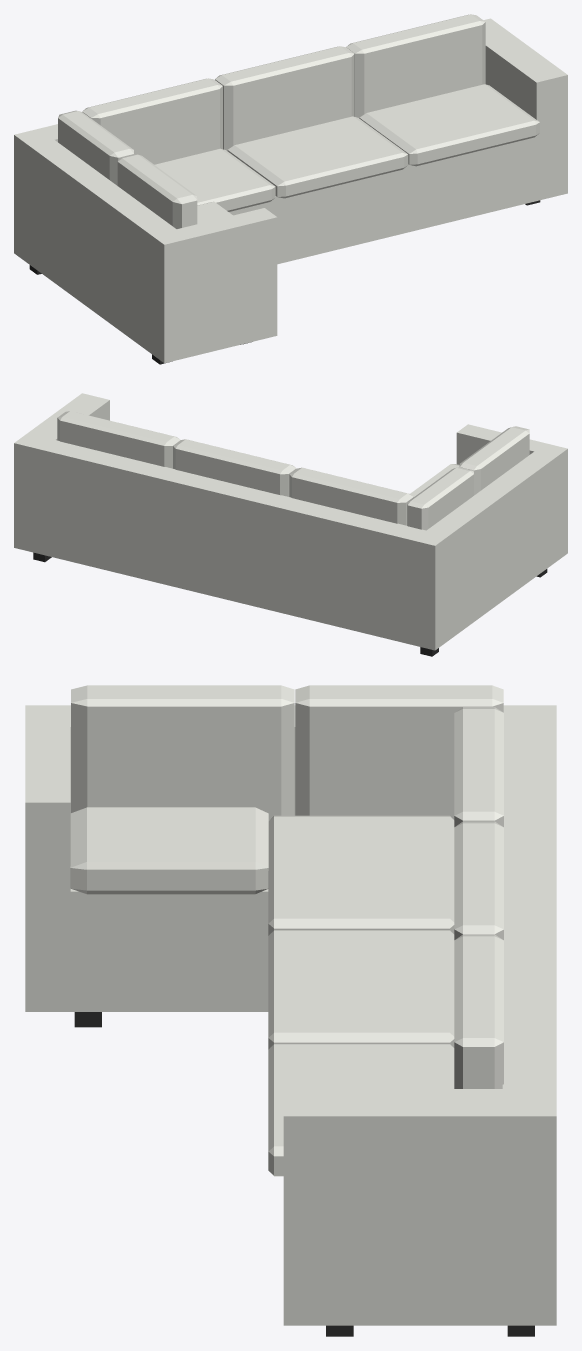
File: Couch_1B.fbx
The picture shows the model from 3 angles, top to bottom: view 1: azimuth 30°, elevation 25°; view 2: azimuth 150°, elevation 25°; view 3: azimuth 270°, elevation 25°; orthographic projection. The views are drawn at different scales.
Parts seen in each view (by area): view 1: polySurface2341; view 2: polySurface2341; view 3: polySurface2341.
Boxes of the visible parts, x1,y1,x2,y2 form: polySurface2341: (14,14,567,364); polySurface2341: (14,393,567,656); polySurface2341: (25,685,556,1336).
Bounding box in the file's own units: 3.55 × 1.13 × 1.94.
Materials: 1 (1 with a texture image).
